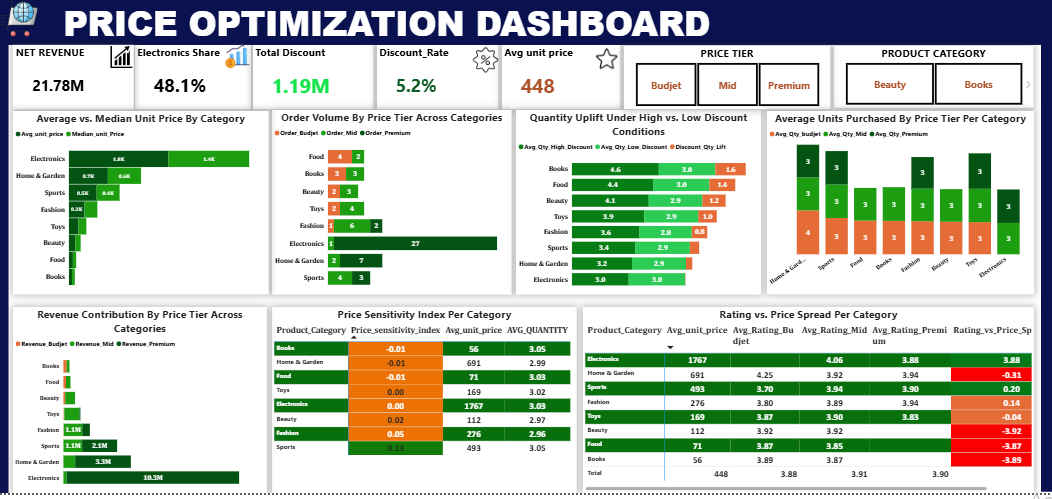

This screenshot's page, from the dashboard's own definition file:
{"tool":"powerbi","page":{"name":"Price optimization dashboard","canvas":[2300,1080],"ordinal":2},"visuals":[{"type":"shape","box":[0,0,23.4,1080.9],"z":0},{"type":"shape","box":[2275,77.4,25,1001.4],"z":1000},{"type":"cardVisual","title":"Electronics Share","fields":{"Data":["Orders.Electronices_share"]},"box":[300,102.5,252.5,140],"z":2000},{"type":"cardVisual","title":"Total  Discount","fields":{"Data":["Orders.Total_discount"]},"box":[557.5,102.5,262.5,140],"z":3000},{"type":"cardVisual","title":"Discount_Rate","fields":{"Data":["Orders.Discount_rate"]},"box":[827.5,102.5,265,140],"z":4000},{"type":"cardVisual","title":"Avg unit price","fields":{"Data":["Orders.Avg_unit_price"]},"box":[1100,102.5,257.5,140],"z":5000},{"type":"shape","box":[0,0,2300,102.5],"z":6000},{"type":"textbox","title":"PRICE OPTIMIZATION DASHBOARD","box":[137.5,0,1500,102.5],"z":7000},{"type":"barChart","title":"Order Volume By Price Tier Across Categories","fields":{"Category":["Orders.Product_Category"],"Y":["Orders.Order_Budjet","Orders.Order_Mid","Orders.Order_Premium"]},"box":[597.5,245,522.5,402.5],"z":8000},{"type":"cardVisual","title":"NET REVENUE","fields":{"Data":["Orders.Net_Revenue"]},"box":[32.5,102.5,262.5,140],"z":9000},{"type":"slicer","title":"PRODUCT CATEGORY","fields":{"Values":["Orders.Product_Category"]},"box":[1825,105,435,135],"z":10000},{"type":"image","box":[1005,105,115,60],"z":11000},{"type":"image","box":[1292.5,97.5,72.5,67.5],"z":12000},{"type":"pivotTable","title":"Price Sensitivity Index Per Category","fields":{"Rows":["Orders.Product_Category"],"Values":["Orders.Price_sensitivity_index","Orders.Avg_unit_price","Orders.AVG_QUANTITY"]},"box":[598.5,674.4,665.3,405.6],"z":13000},{"type":"image","box":[245,105,50,47.5],"z":14000},{"type":"image","box":[0,2.2,92.9,82.1],"z":15000},{"type":"image","box":[480,90,82.5,72.5],"z":16000},{"type":"barChart","title":"Average vs. Median Unit  Price  By Category","fields":{"Category":["Orders.Product_Category"],"Y":["Orders.Avg_unit_price","Orders.Median_unit_Price"]},"box":[32.5,247.5,557.5,400],"z":17000},{"type":"barChart","title":"Quantity Uplift Under High vs. Low Discount Conditions","fields":{"Category":["Orders.Product_Category"],"Y":["Orders.Avg_Qty_High_Discount","Orders.Avg_Qty_Low_Discount","Orders.Discount_Qty_Lift"]},"box":[1130,245,535,402.5],"z":18000},{"type":"slicer","title":"PRICE TIER","fields":{"Values":["Orders.Price_Tier"]},"box":[1365,105,450,137.5],"z":19000},{"type":"columnChart","title":"Average Units Purchased By Price Tier Per Category","fields":{"Category":["Orders.Product_Category"],"Y":["Orders.Avg_Qty_budjet","Orders.Avg_Qty_Mid","Orders.Avg_Qty_Premium"]},"box":[1677.5,247.5,582.5,400],"z":20000},{"type":"pivotTable","title":"Rating  vs. Price Spread  Per Category","fields":{"Rows":["Orders.Product_Category"],"Values":["Orders.Avg_unit_price","Orders.Avg_Rating_Budjet","Orders.Avg_Rating_Mid","Orders.Avg_Rating_Premium","Orders.Rating_vs_Price_Spread"]},"box":[1276.1,675.2,984.3,405.6],"z":21000},{"type":"barChart","title":"Revenue Contribution By Price Tier  Across Categories ","fields":{"Category":["Orders.Product_Category"],"Y":["Orders.Revenue_Budjet","Orders.Revenue_Mid","Orders.Revenue_Premium"]},"box":[32.2,675.2,554,405.6],"z":22000}]}

Visuals, with their boxes in screenshot pixels (x1, y1, x2, y2), scaled from the page's 2300x1080 canvas onto the 1052x499 screenshot:
shape: select_region(0, 0, 11, 498)
shape: select_region(1041, 36, 1051, 498)
"Electronics Share" cardVisual: select_region(137, 47, 253, 112)
"Total  Discount" cardVisual: select_region(255, 47, 375, 112)
"Discount_Rate" cardVisual: select_region(378, 47, 500, 112)
"Avg unit price" cardVisual: select_region(503, 47, 621, 112)
shape: select_region(0, 0, 1051, 47)
"PRICE OPTIMIZATION DASHBOARD" textbox: select_region(63, 0, 749, 47)
"Order Volume By Price Tier Across Categories" barChart: select_region(273, 113, 512, 299)
"NET REVENUE" cardVisual: select_region(15, 47, 135, 112)
"PRODUCT CATEGORY" slicer: select_region(835, 49, 1034, 111)
image: select_region(460, 49, 512, 76)
image: select_region(591, 45, 624, 76)
"Price Sensitivity Index Per Category" pivotTable: select_region(274, 312, 578, 498)
image: select_region(112, 49, 135, 70)
image: select_region(0, 1, 42, 39)
image: select_region(220, 42, 257, 75)
"Average vs. Median Unit  Price  By Category" barChart: select_region(15, 114, 270, 299)
"Quantity Uplift Under High vs. Low Discount Conditions" barChart: select_region(517, 113, 762, 299)
"PRICE TIER" slicer: select_region(624, 49, 830, 112)
"Average Units Purchased By Price Tier Per Category" columnChart: select_region(767, 114, 1034, 299)
"Rating  vs. Price Spread  Per Category" pivotTable: select_region(584, 312, 1034, 498)
"Revenue Contribution By Price Tier  Across Categories " barChart: select_region(15, 312, 268, 498)
